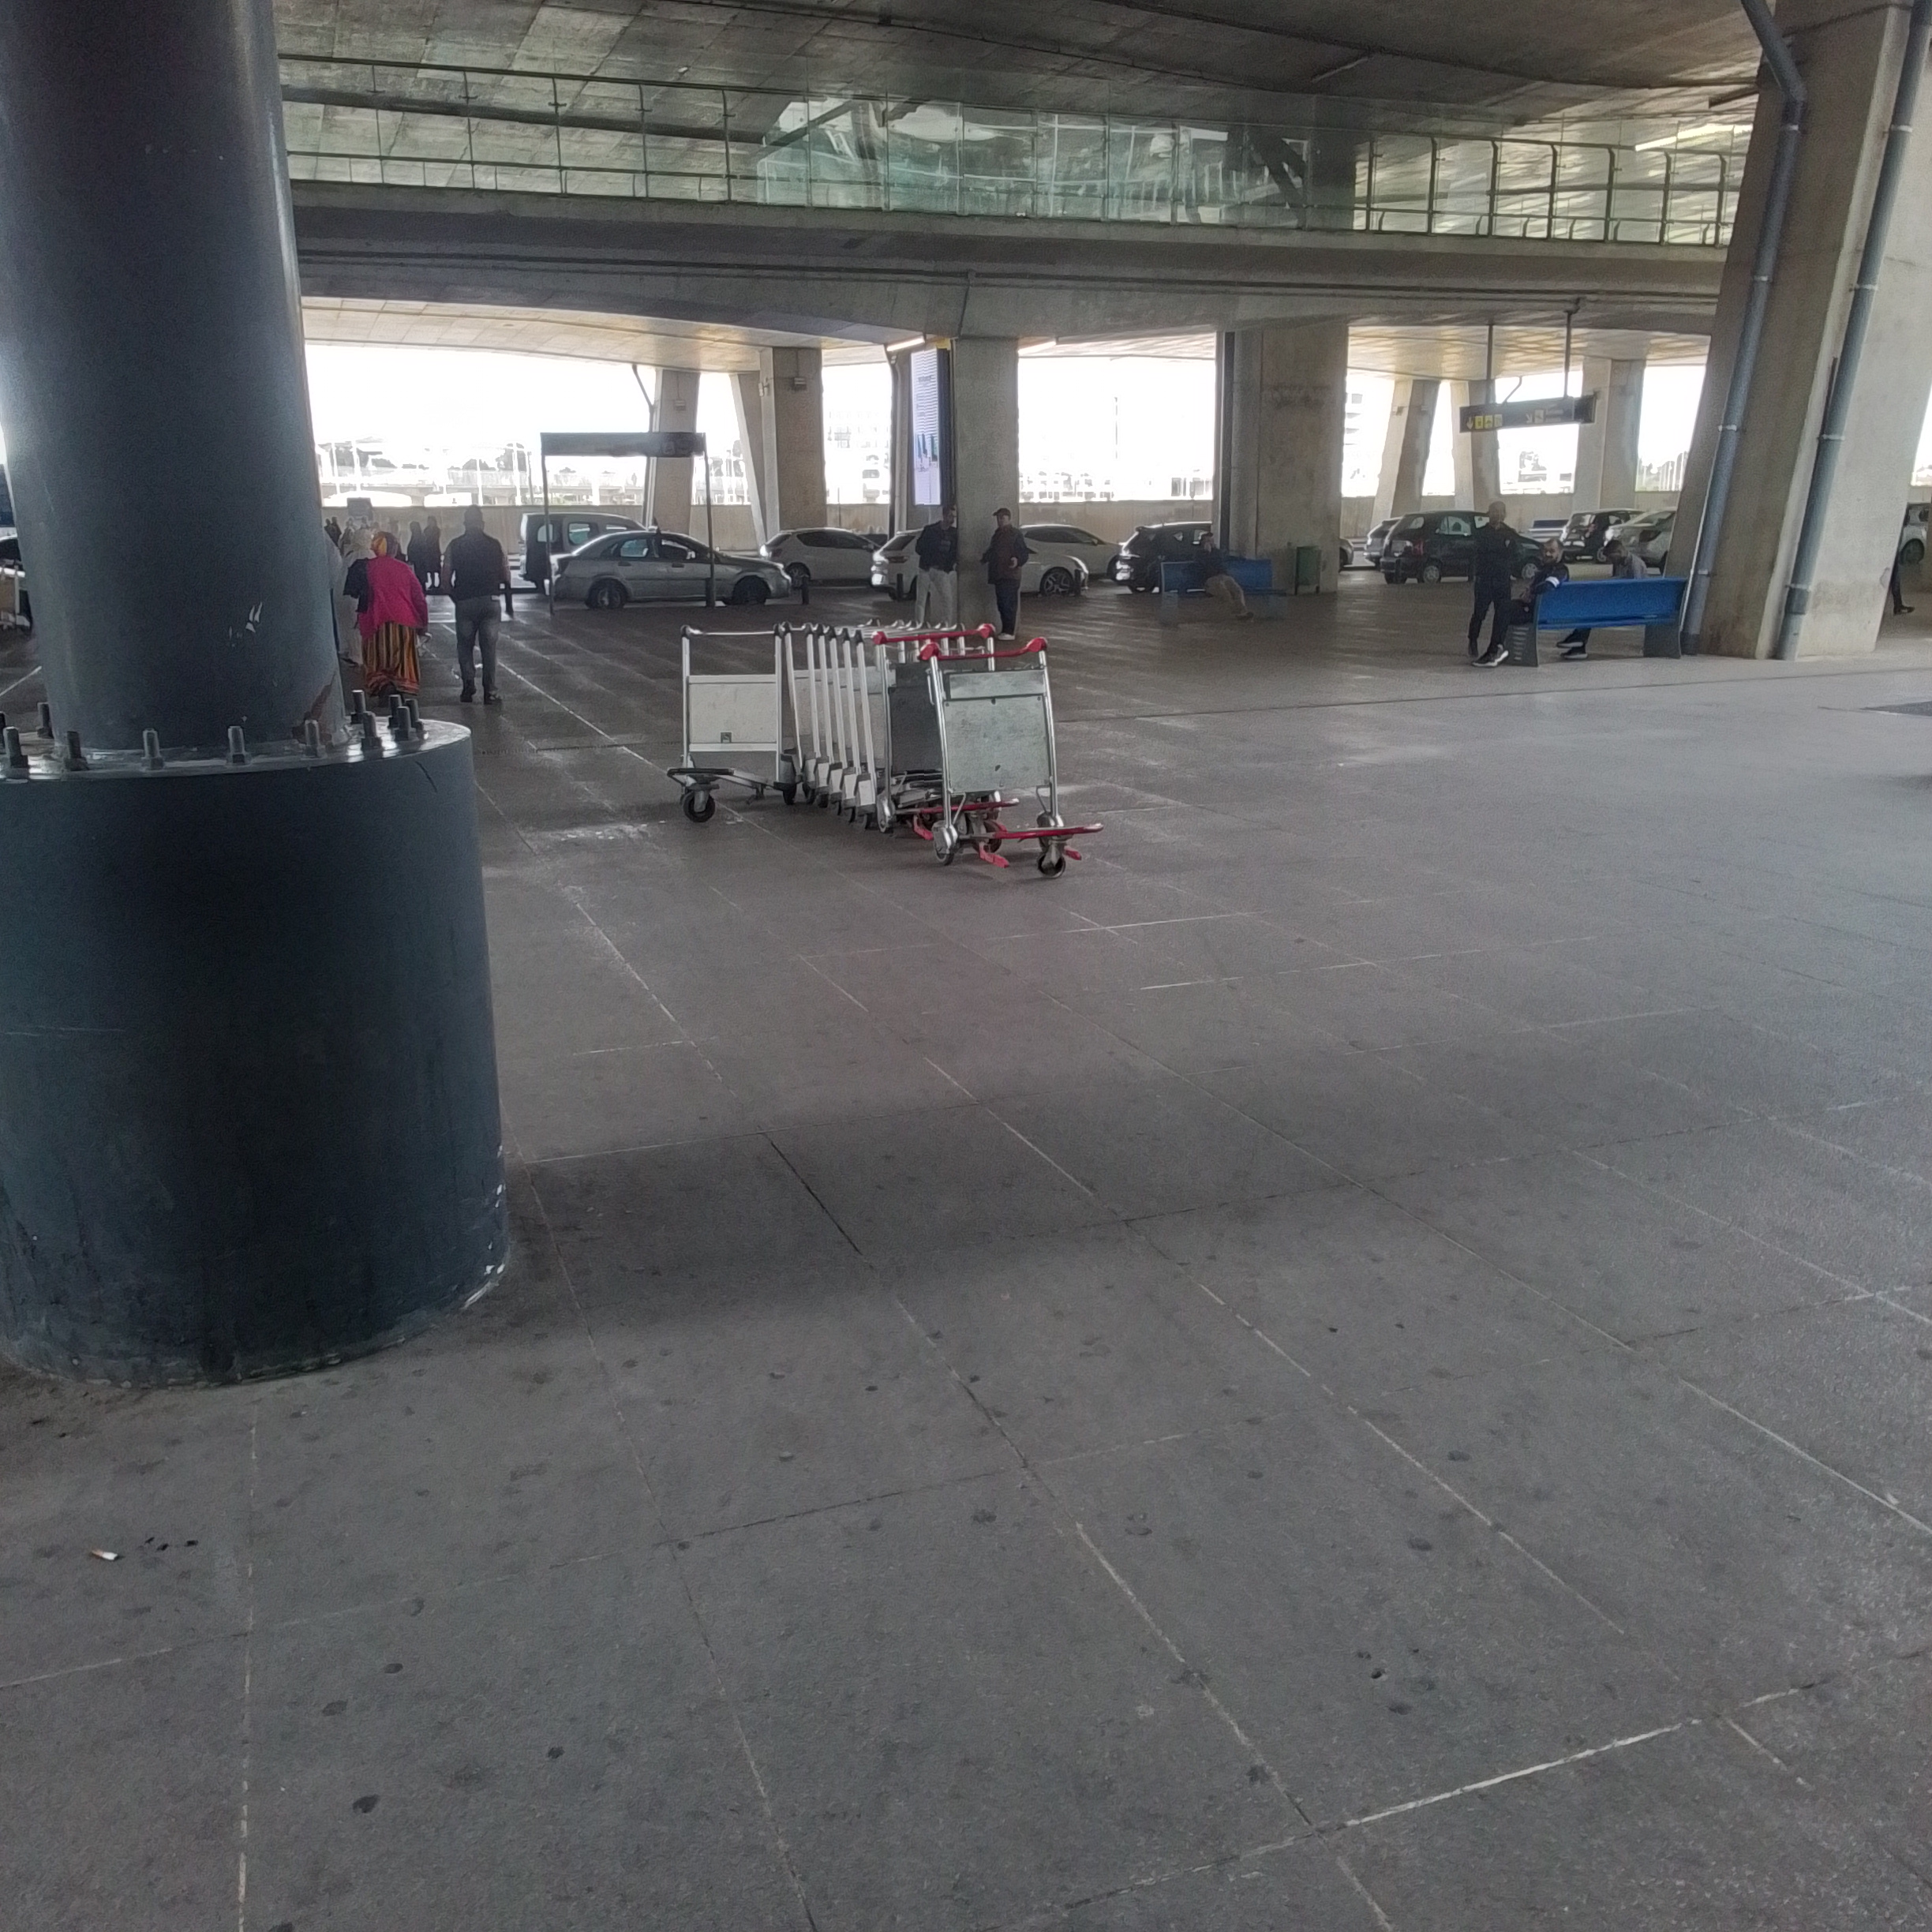airport-trolley: (918, 640, 1102, 874), (863, 623, 1019, 826), (667, 623, 791, 809), (846, 623, 878, 821), (823, 612, 853, 816), (796, 616, 824, 803)
